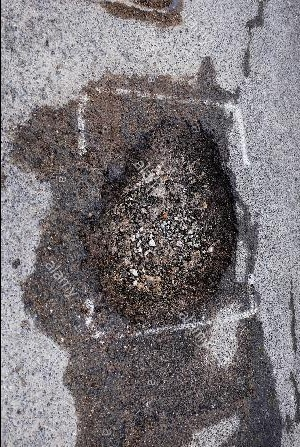pothole: (81, 112, 243, 329)
